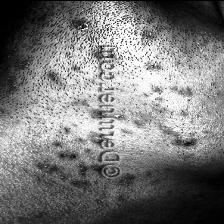Toxin: (31, 139, 89, 186), (180, 138, 196, 148)
